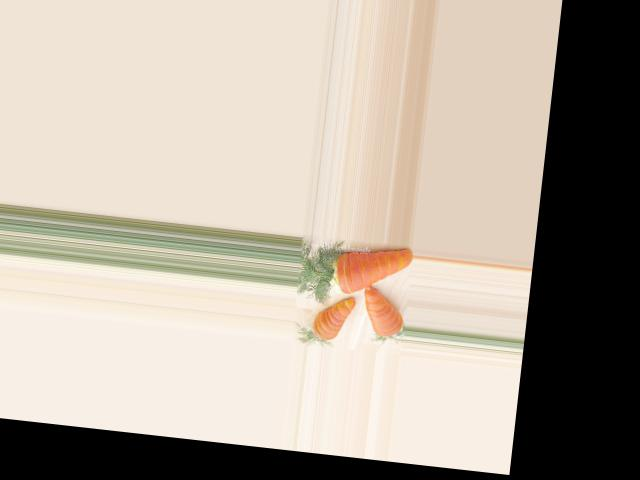carrot: (325, 236, 413, 306)
